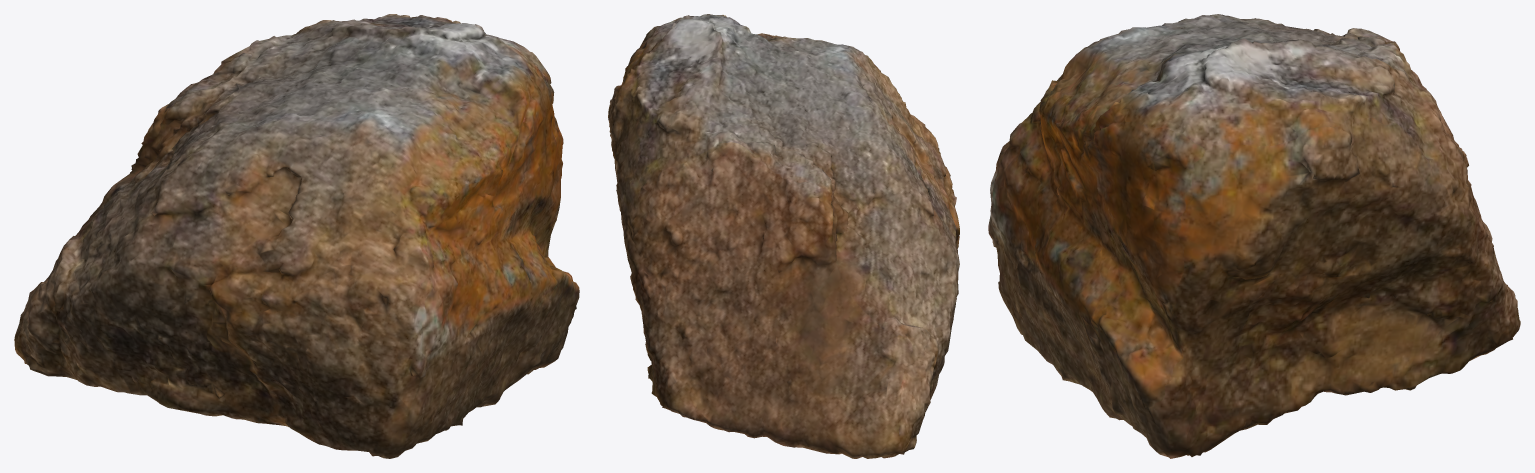
Rendered from namaqualand_boulder_04.glb.
The picture shows the model from 3 angles, left to right: view 1: azimuth 30°, elevation 25°; view 2: azimuth 150°, elevation 25°; view 3: azimuth 270°, elevation 25°; orthographic projection. The views are drawn at different scales.
Visible parts, largest first — view 1: boulder_04; view 2: boulder_04; view 3: boulder_04.
Boxes of the visible parts, x1,y1,x2,y2 form: boulder_04: (14,14,579,458); boulder_04: (608,14,959,458); boulder_04: (988,14,1520,458).
Bounding box in the file's own units: 2.52 × 1.9 × 2.5.
Materials: 1 (1 with a texture image).
